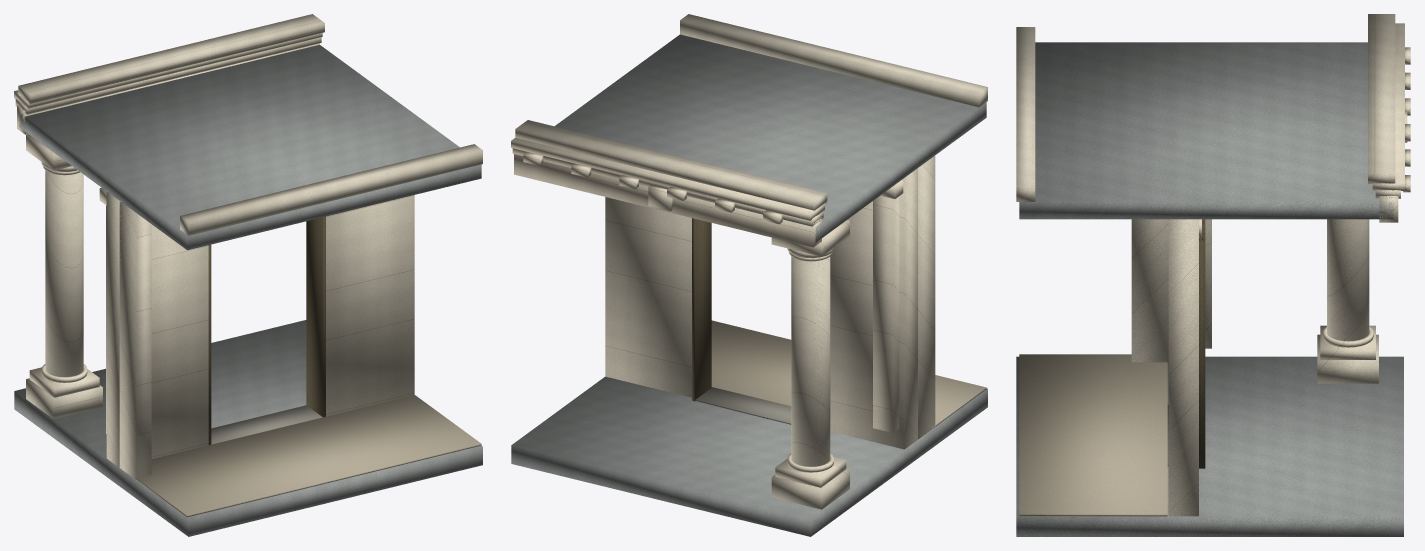
3 views of the same model, side by side, from view 1: azimuth 30°, elevation 25°; view 2: azimuth 150°, elevation 25°; view 3: azimuth 270°, elevation 25° (orthographic). The views are drawn at different scales.
Visible parts, largest first — view 1: VIS_Upper_Slab, VIS_Interior_Floor_Finish, VIS_Foundation_Slab, VIS_Entry_Right_Stone, VIS_Entry_Left_Stone, VIS_Left_Inside_Return, VIS_Column_Left_Shaft, VIS_Coping_Rear, VIS_Roof_Coping, VIS_Entry_Frame_Right, VIS_Cornice_Lower, VIS_Entry_Threshold (+6 smaller); view 2: VIS_Upper_Slab, VIS_Foundation_Slab, VIS_Entry_Right_Stone, VIS_Entry_Left_Stone, VIS_Column_Left_Shaft, VIS_Coping_Rear, VIS_Interior_Floor_Finish, VIS_Roof_Coping, VIS_Left_Pilaster, VIS_Limestone_Fascia, VIS_Left_Inside_Return, VIS_Cornice_Upper (+6 smaller); view 3: VIS_Upper_Slab, VIS_Foundation_Slab, VIS_Interior_Floor_Finish, VIS_Entry_Right_Stone, VIS_Left_Inside_Return, VIS_Column_Left_Shaft, VIS_Roof_Coping, VIS_Coping_Rear, VIS_Cornice_Upper, VIS_Column_Left_Plinth, VIS_Entry_Frame_Right, VIS_Column_Left_Base (+2 smaller).
Part boxes in pixels (bbox=[...]): VIS_Upper_Slab: bbox=[19, 44, 481, 250]; VIS_Interior_Floor_Finish: bbox=[136, 395, 481, 517]; VIS_Foundation_Slab: bbox=[14, 320, 482, 536]; VIS_Entry_Right_Stone: bbox=[326, 195, 414, 416]; VIS_Entry_Left_Stone: bbox=[106, 192, 208, 467]; VIS_Left_Inside_Return: bbox=[119, 202, 151, 480]; VIS_Column_Left_Shaft: bbox=[45, 170, 83, 376]; VIS_Coping_Rear: bbox=[180, 144, 482, 235]; VIS_Roof_Coping: bbox=[18, 14, 324, 103]; VIS_Entry_Frame_Right: bbox=[306, 216, 325, 417]; VIS_Cornice_Lower: bbox=[15, 37, 321, 114]; VIS_Entry_Threshold: bbox=[211, 405, 322, 444]; VIS_Upper_Slab: bbox=[555, 34, 986, 242]; VIS_Foundation_Slab: bbox=[511, 376, 987, 536]; VIS_Entry_Right_Stone: bbox=[605, 197, 691, 397]; VIS_Entry_Left_Stone: bbox=[830, 168, 917, 449]; VIS_Column_Left_Shaft: bbox=[791, 256, 830, 466]; VIS_Coping_Rear: bbox=[680, 14, 987, 107]; VIS_Interior_Floor_Finish: bbox=[711, 320, 986, 427]; VIS_Roof_Coping: bbox=[515, 120, 827, 210]; VIS_Left_Pilaster: bbox=[873, 195, 899, 432]; VIS_Limestone_Fascia: bbox=[514, 154, 821, 247]; VIS_Left_Inside_Return: bbox=[917, 156, 935, 439]; VIS_Cornice_Upper: bbox=[511, 137, 824, 220]; VIS_Upper_Slab: bbox=[1019, 42, 1393, 219]; VIS_Foundation_Slab: bbox=[1016, 356, 1403, 536]; VIS_Interior_Floor_Finish: bbox=[1019, 354, 1167, 516]; VIS_Entry_Right_Stone: bbox=[1168, 219, 1198, 516]; VIS_Left_Inside_Return: bbox=[1131, 219, 1168, 364]; VIS_Column_Left_Shaft: bbox=[1327, 219, 1369, 341]; VIS_Roof_Coping: bbox=[1368, 14, 1395, 183]; VIS_Coping_Rear: bbox=[1016, 27, 1035, 201]; VIS_Cornice_Upper: bbox=[1372, 23, 1404, 190]; VIS_Column_Left_Plinth: bbox=[1317, 334, 1378, 383]; VIS_Entry_Frame_Right: bbox=[1199, 233, 1205, 468]; VIS_Column_Left_Base: bbox=[1320, 325, 1375, 359].
Size of the model in its own units: 4 by 4.24 by 4.17.
7 materials, 7 textured.
